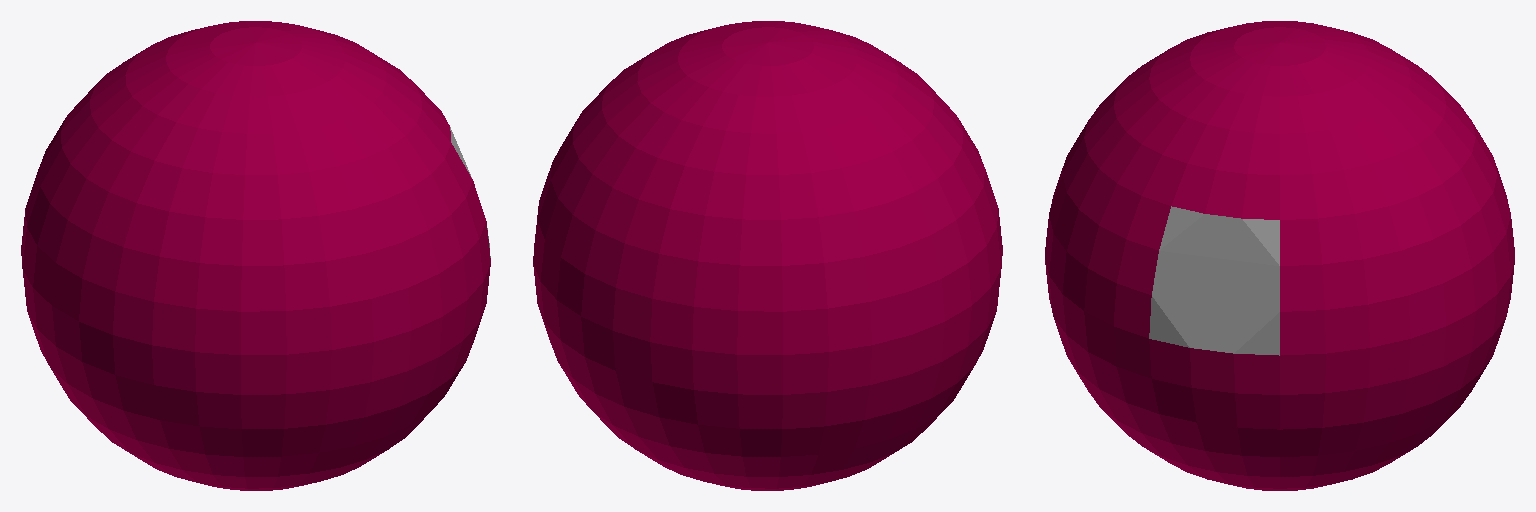
3 renders of one model, left to right at view 1: azimuth 30°, elevation 25°; view 2: azimuth 150°, elevation 25°; view 3: azimuth 270°, elevation 25°, orthographic.
Visible parts, largest first — view 1: 球体; view 2: 球体; view 3: 球体.
Boxes of the visible parts, x1,y1,x2,y2 form: 球体: [21, 21, 490, 490]; 球体: [533, 21, 1002, 490]; 球体: [1045, 21, 1514, 490].
Bounding box in the file's own units: 2 × 2 × 2.